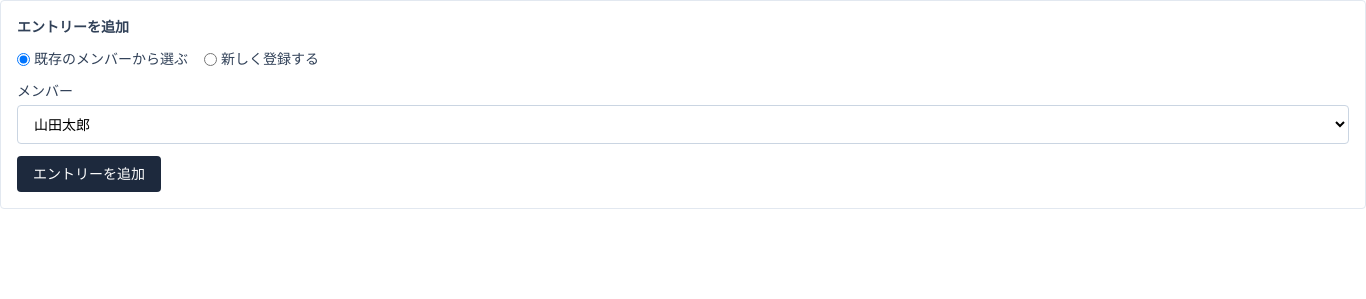
Scenario: AddEntryForm › 新規登録へ切り替えると氏名とかなの入力が出る
Click the radio button labelled "新しく登録する" at (210, 59), box [204, 52, 217, 66]
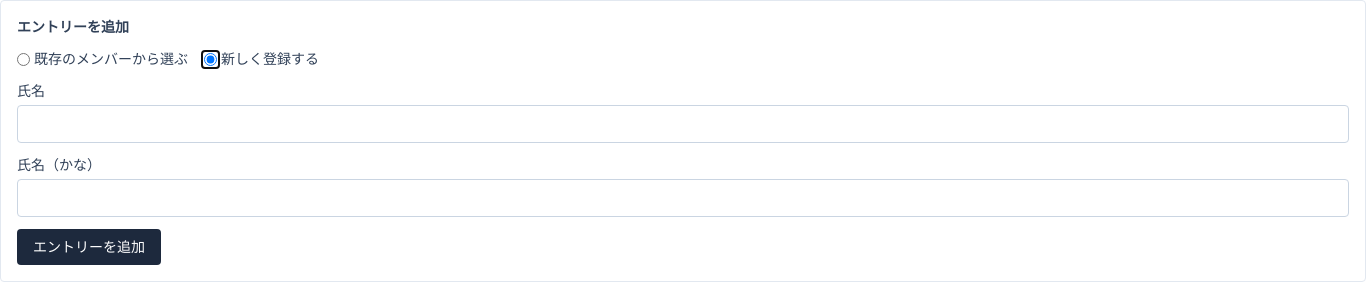
expect the field labelled "氏名" is shown: met, box [17, 105, 1349, 143]
expect the field labelled "氏名（かな）" is shown: met, box [17, 179, 1349, 217]
